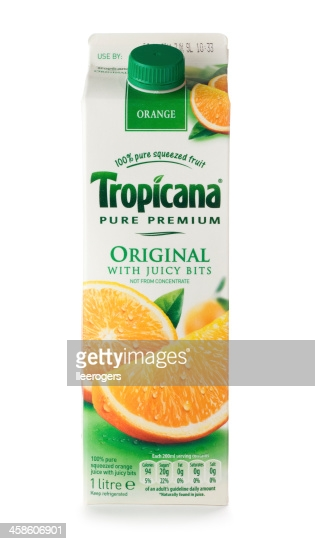carton: (64, 18, 274, 525)
